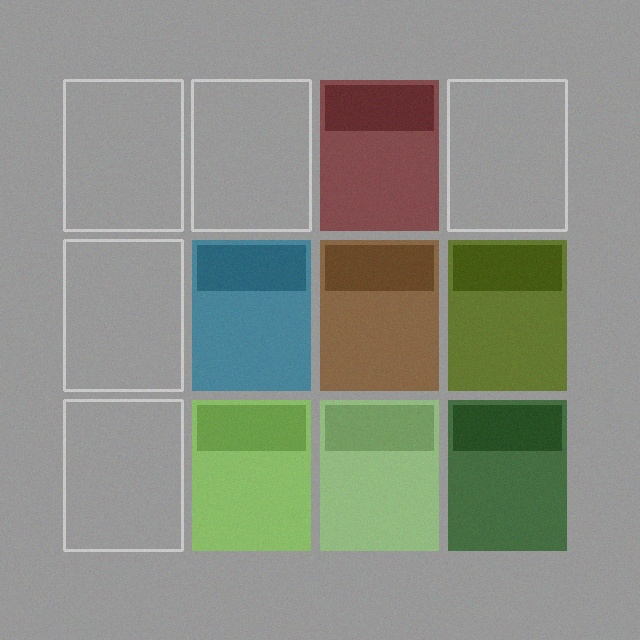space-empty: (64, 80, 182, 230), (192, 80, 310, 230), (448, 80, 566, 230), (64, 240, 182, 390), (64, 400, 182, 550)
space-occupied: (320, 80, 438, 230), (192, 240, 310, 390), (320, 240, 438, 390), (448, 240, 566, 390), (192, 400, 310, 550), (320, 400, 438, 550), (448, 400, 566, 550)
